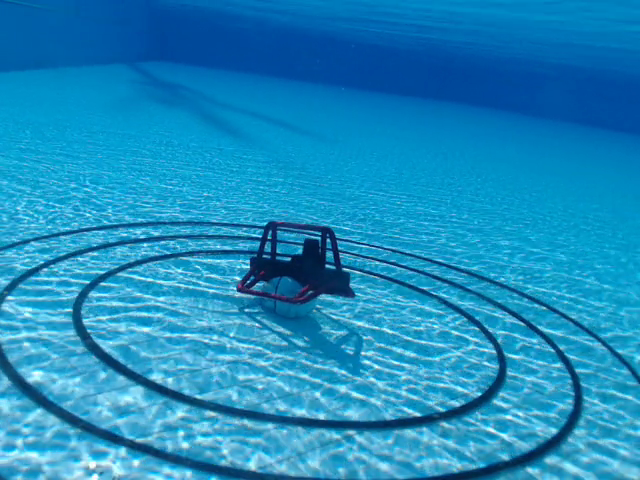submarine: (235, 219, 361, 305)
